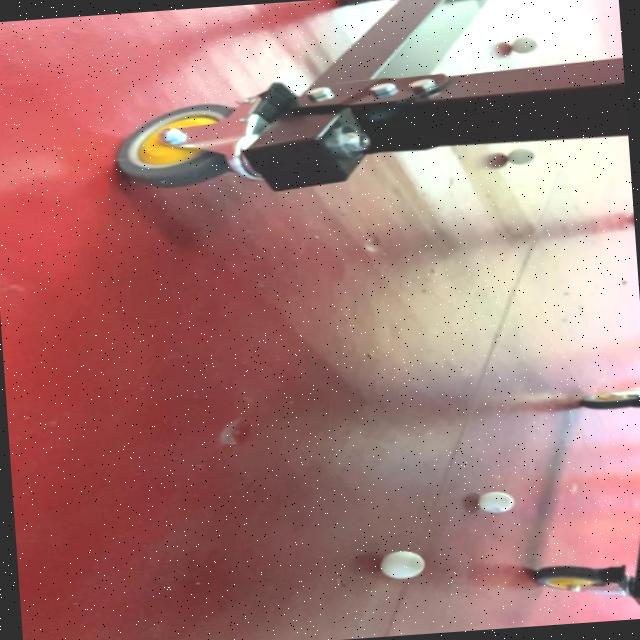ping-pong-ball: (375, 548, 427, 582), (472, 488, 516, 516), (507, 34, 543, 56), (502, 146, 538, 166)
